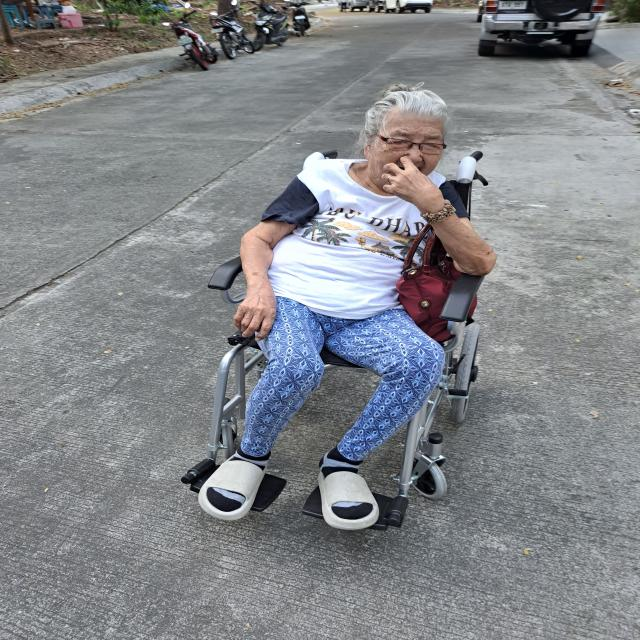wheelchairs: (180, 150, 481, 534)
